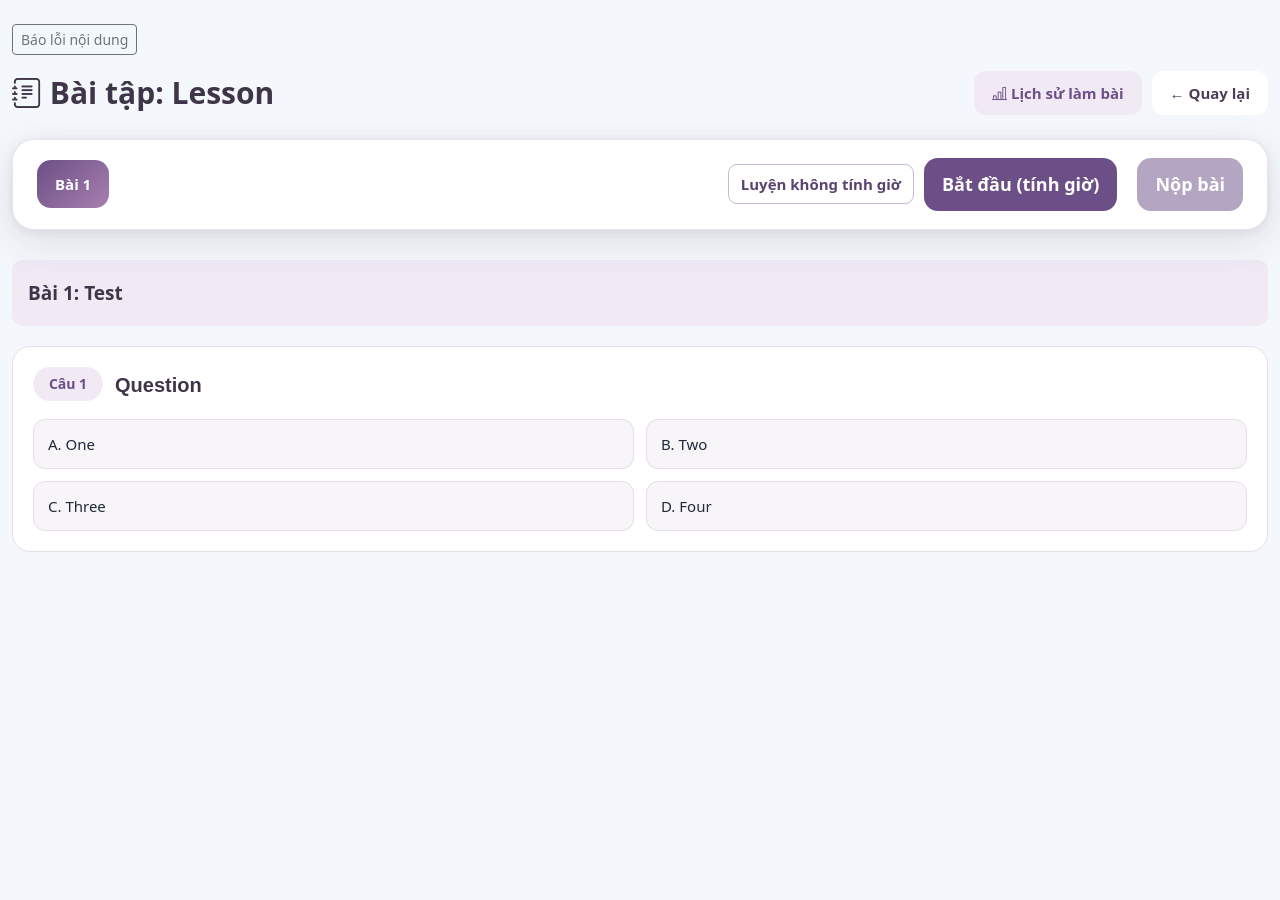
Test case: sends answers rather than a client score and allows retry after a failed submission
This screenshot has width=1280, height=900.
Click the button with class "start-btn".
click(1021, 184)  # box 924,158 -> 1117,211
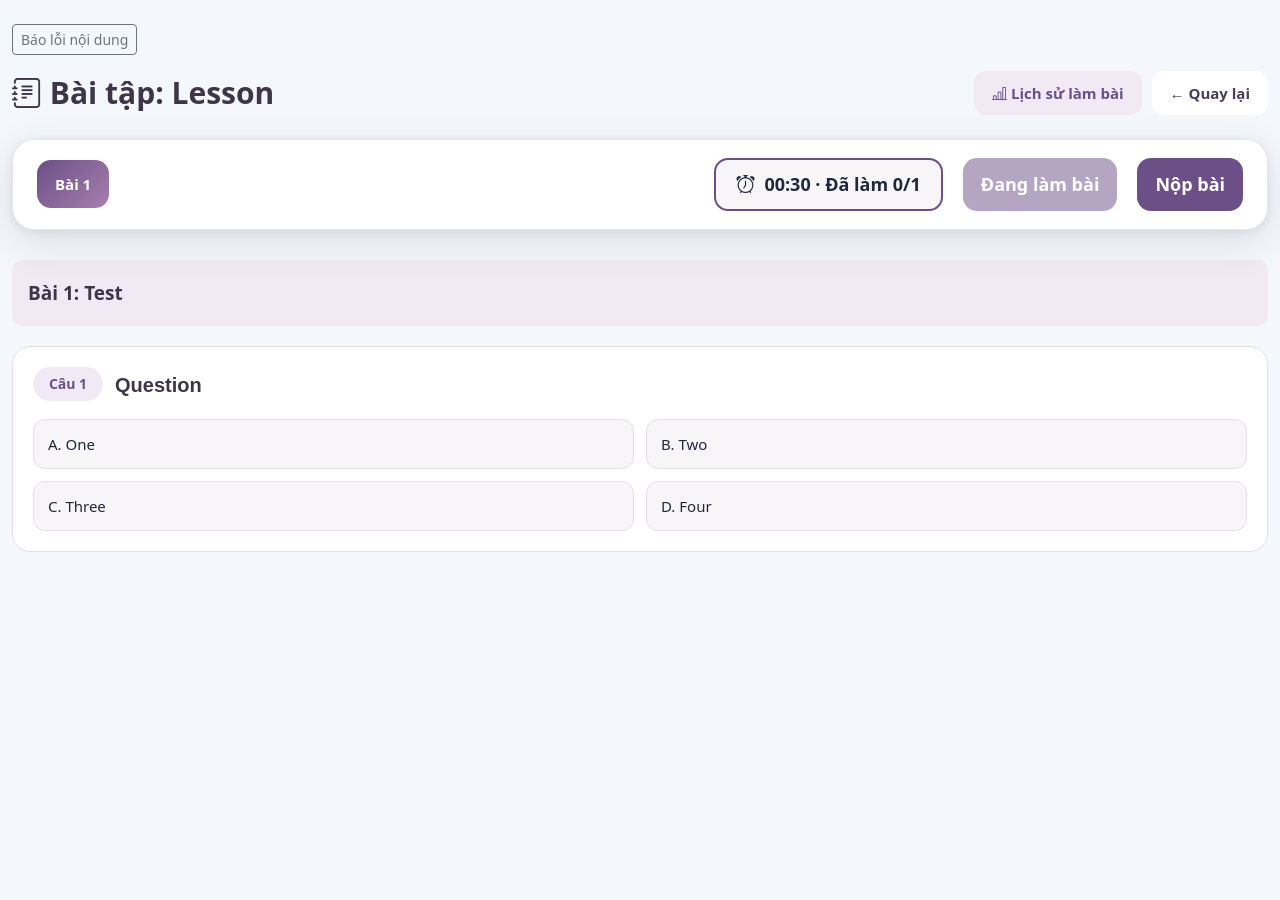
Click the button with class "submit-btn".
click(1190, 184)  # box 1137,158 -> 1243,211
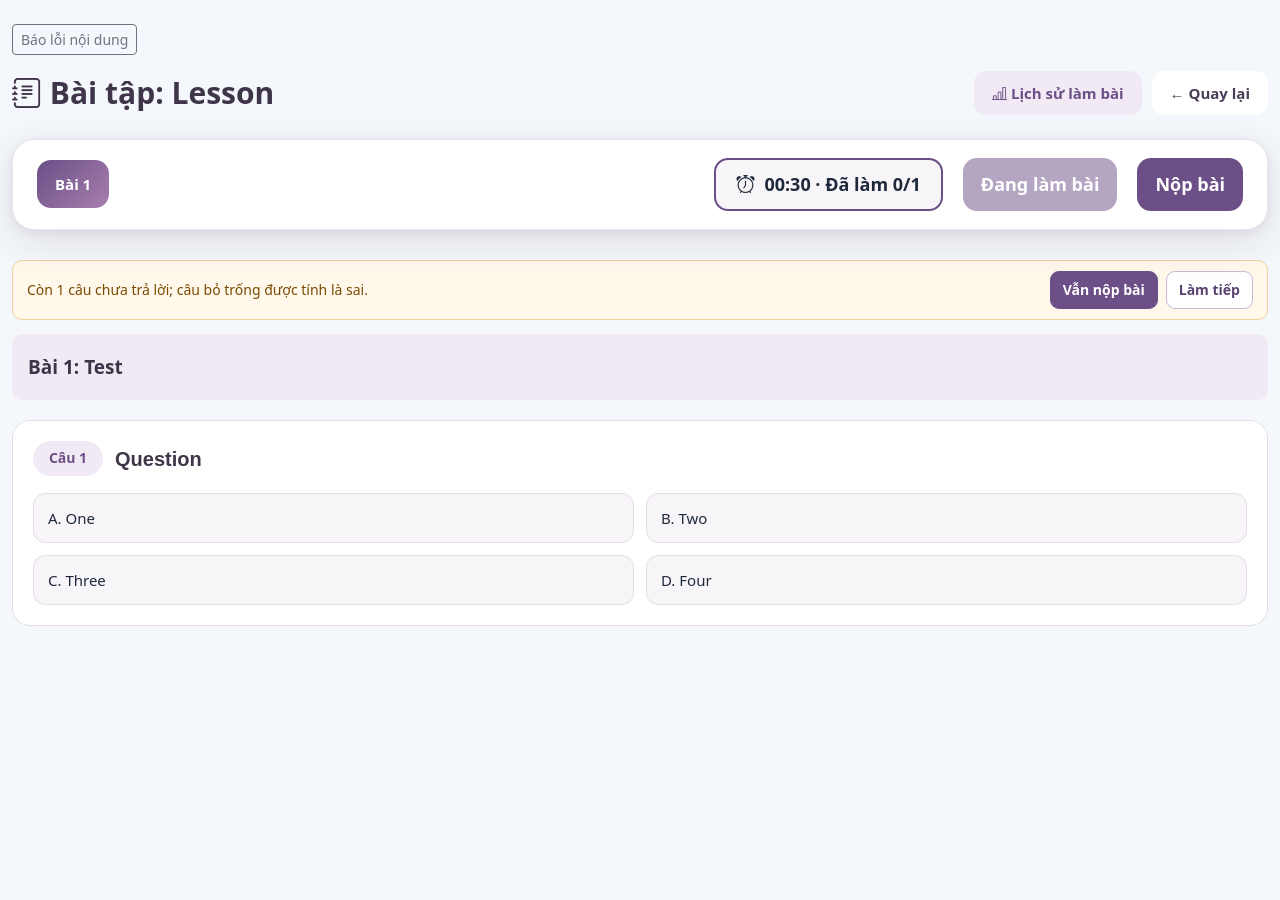
Expected: the text "Còn 1 câu chưa trả lời" is shown, 27,280 -> 368,299
Click the button with class "confirm-submit-btn".
click(1104, 290)  # box 1050,271 -> 1158,309
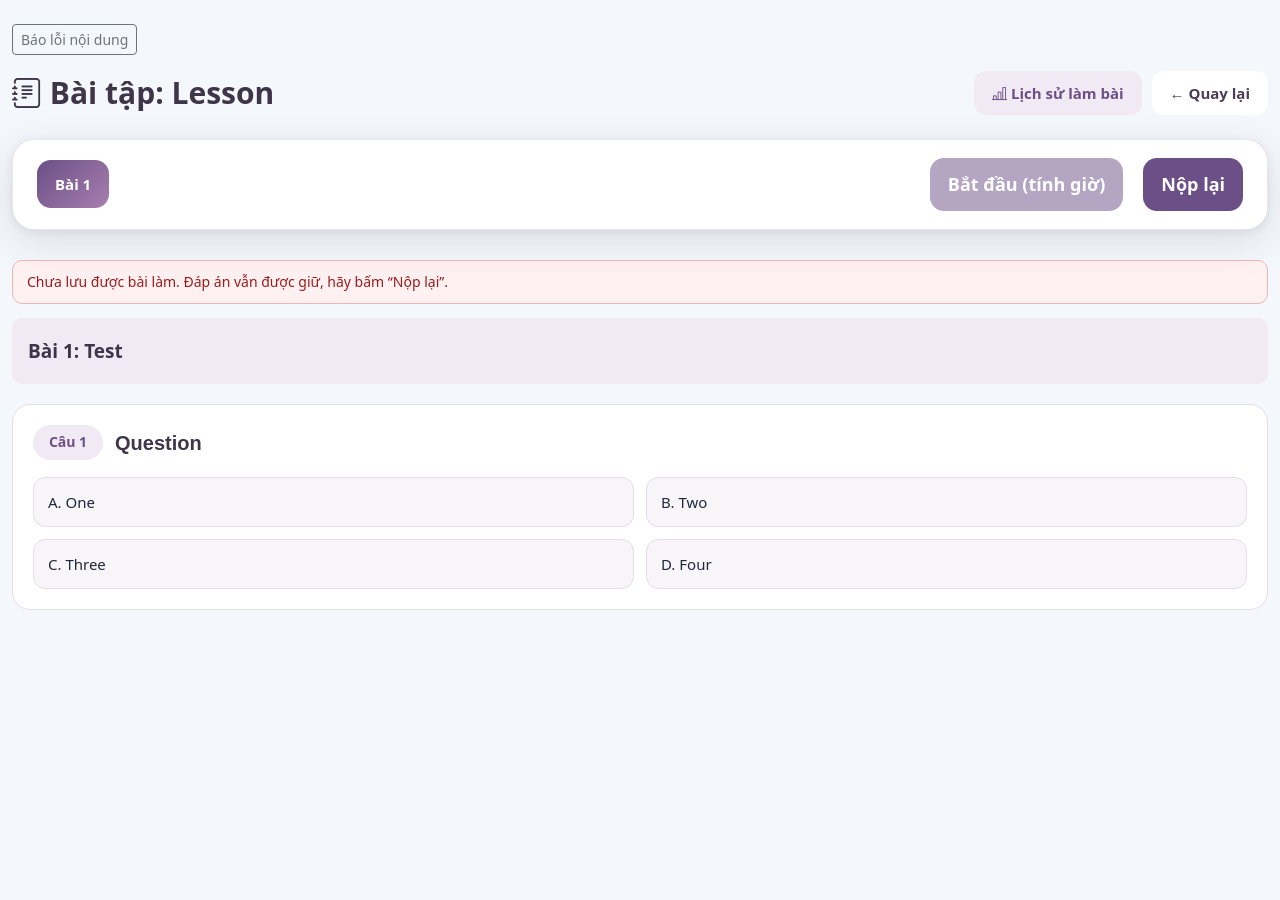
Expected: the button with class "submit-btn" is enabled
Expected: the text "Chưa lưu được bài làm" is shown, 27,272 -> 448,291
Expected: the button with class "submit-btn" reads "Nộp lại"
Click the button with class "submit-btn".
click(1193, 184)  # box 1143,158 -> 1243,211
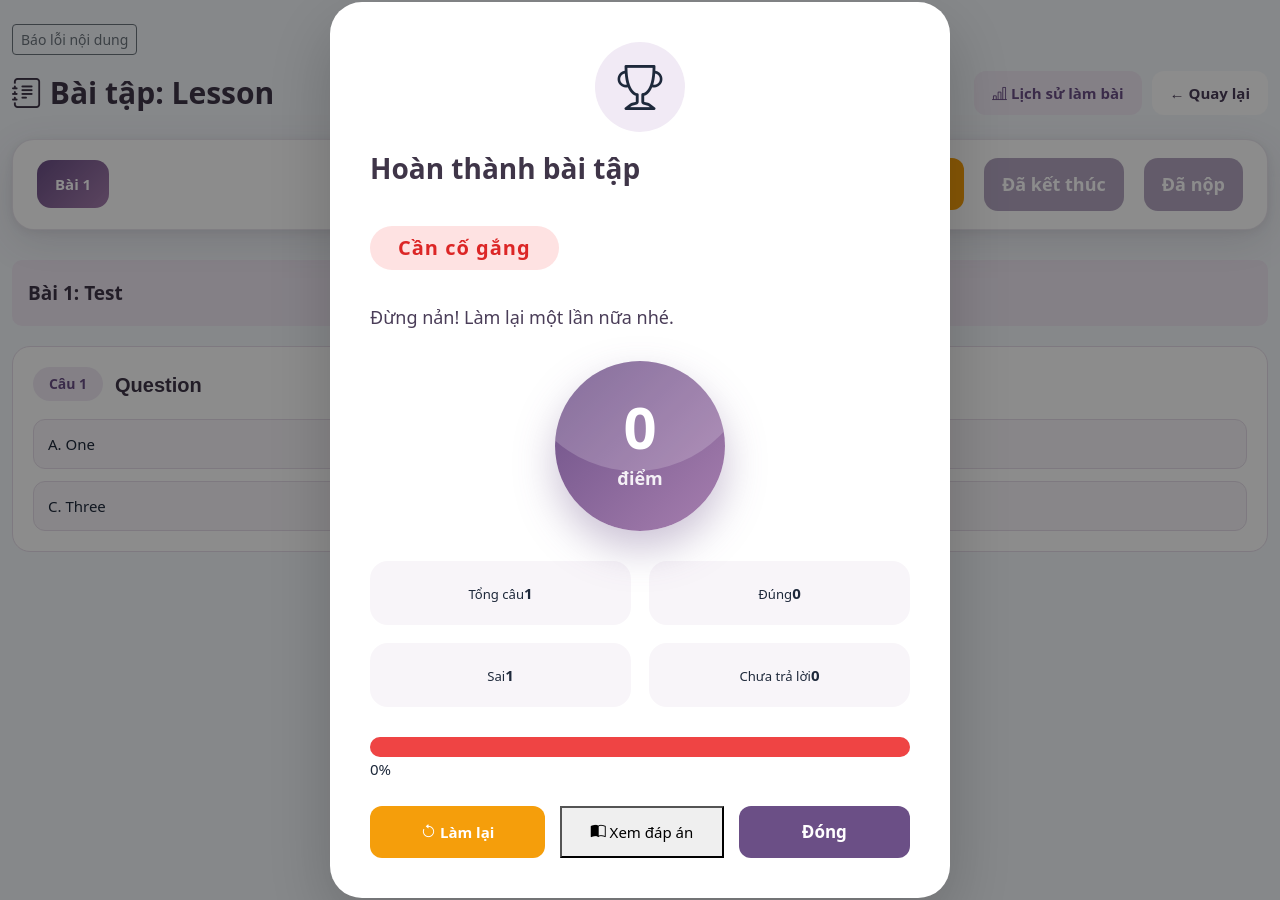
Expected: the button with class "submit-btn" reads "Đã nộp", 1144,158 -> 1243,211
